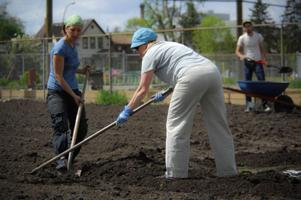person: (114, 28, 241, 183)
